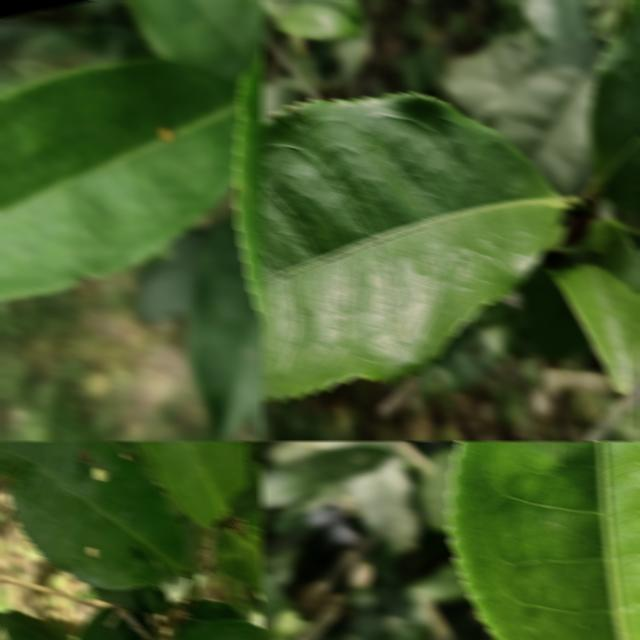Leaf: (260, 93, 570, 401), (0, 60, 240, 299), (447, 440, 640, 640), (0, 440, 187, 590), (541, 219, 640, 393), (188, 220, 264, 436), (483, 64, 597, 195), (123, 0, 264, 82), (587, 0, 640, 212), (417, 300, 521, 400), (146, 440, 248, 527), (260, 445, 389, 509), (276, 0, 362, 40), (522, 0, 590, 45), (0, 609, 69, 640), (260, 568, 294, 620), (181, 619, 264, 640)
